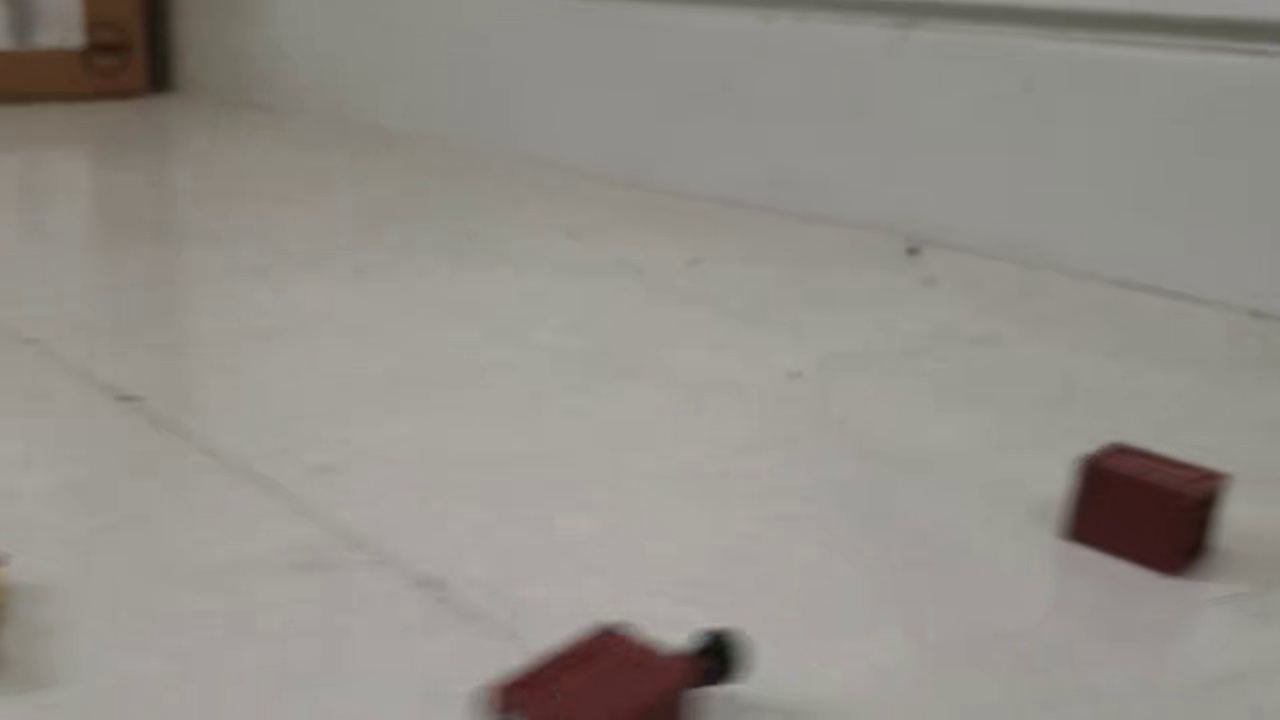box: (484, 615, 759, 720), (1055, 443, 1232, 575)
